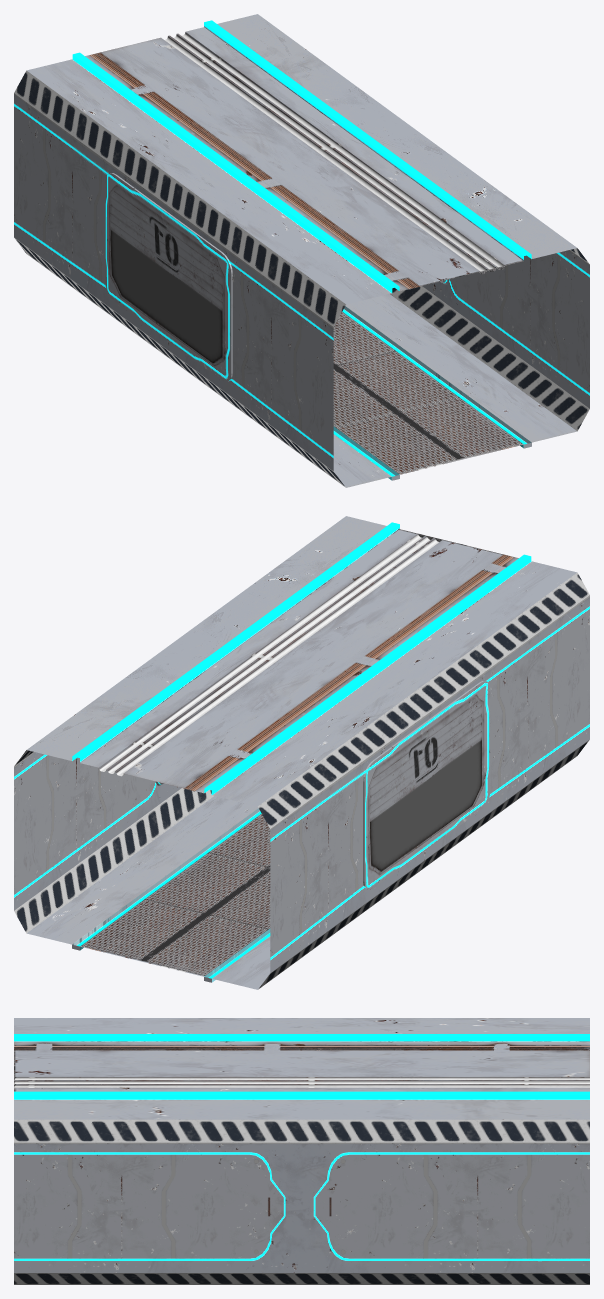
Rendered from modle with roof and floor.fbx.
3 views of the same model, one above another, from view 1: azimuth 30°, elevation 25°; view 2: azimuth 150°, elevation 25°; view 3: azimuth 270°, elevation 25° (orthographic). The views are drawn at different scales.
Visible parts, largest first — view 1: roof and floor, hallway; view 2: roof and floor, hallway; view 3: hallway, roof and floor.
Part boxes in pixels (<box>): roof and floor: <box>27,14,576,487</box>; hallway: <box>14,70,589,487</box>; roof and floor: <box>27,516,576,989</box>; hallway: <box>14,572,589,989</box>; hallway: <box>14,1119,589,1284</box>; roof and floor: <box>14,1018,589,1119</box>.
Size of the model in its own units: 334 by 238 by 717.
